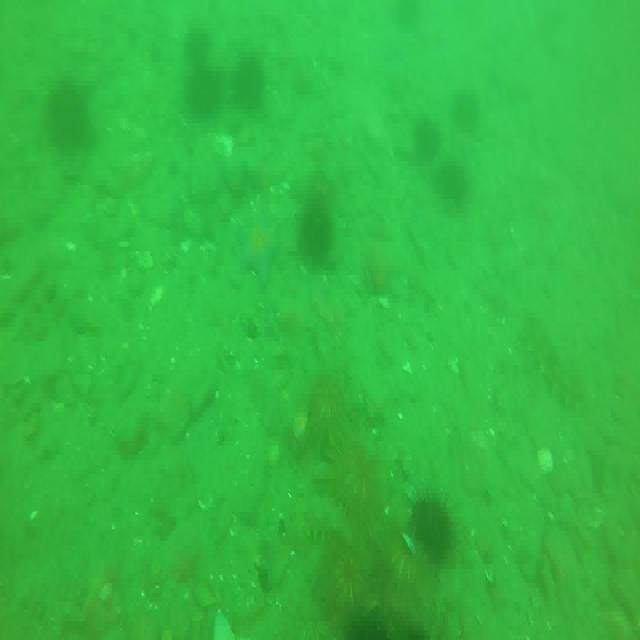echinus: (332, 421, 384, 529), (315, 551, 371, 626), (43, 75, 89, 148), (408, 492, 452, 563), (294, 193, 334, 253), (228, 51, 266, 101), (432, 161, 467, 205), (456, 81, 480, 141), (183, 71, 217, 109), (415, 114, 442, 160), (182, 26, 214, 58), (400, 0, 429, 28)
holothurian: (520, 309, 586, 410)
scallop: (292, 404, 310, 442), (539, 446, 557, 480), (214, 136, 235, 158)
starfish: (232, 212, 282, 285)
